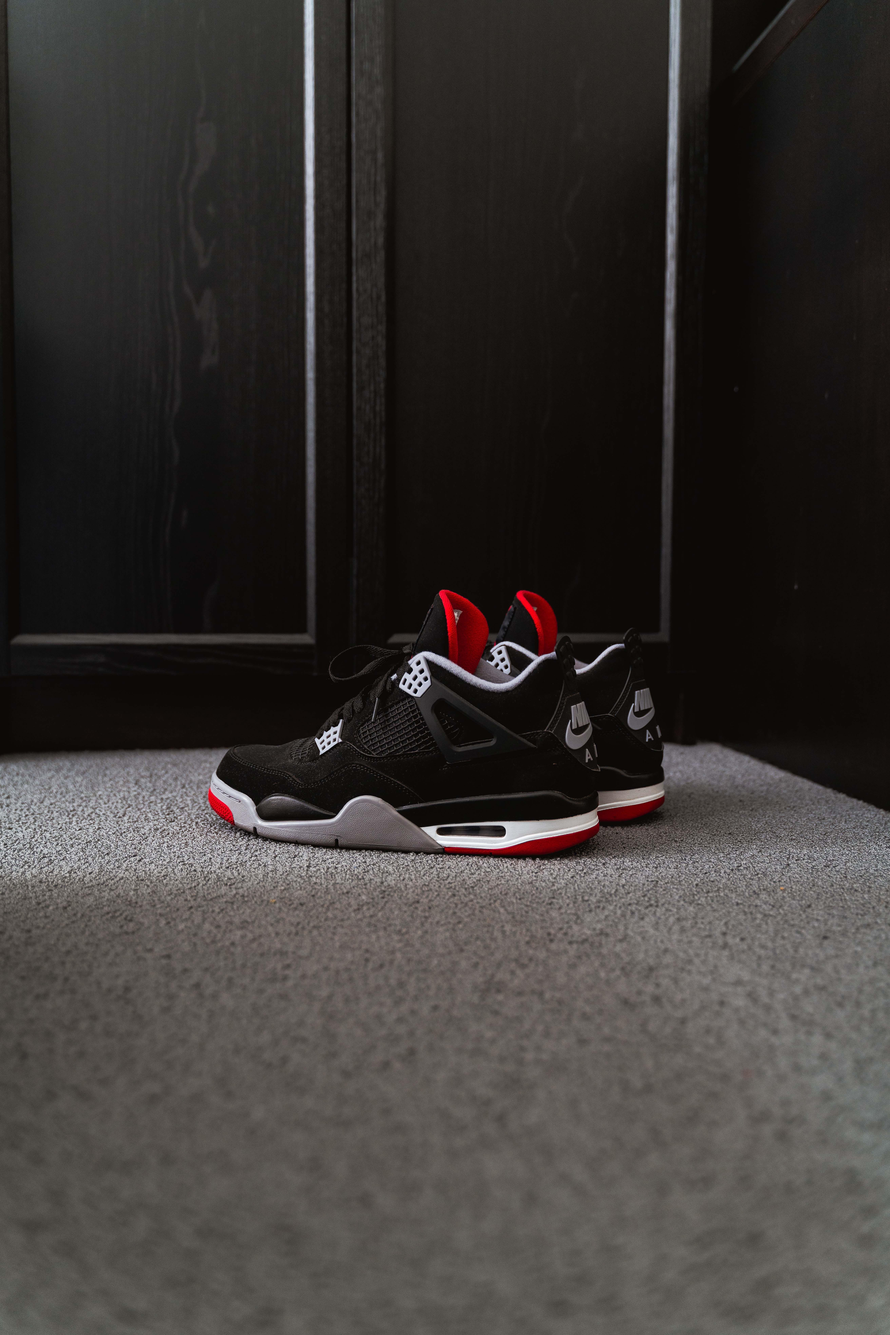sneaker: (171, 589, 681, 857)
